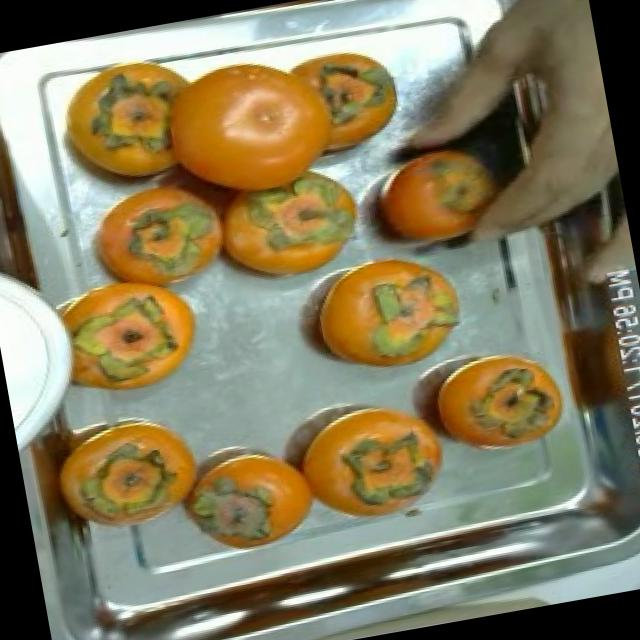Fruit: (125, 37, 364, 230), (28, 248, 224, 418), (274, 245, 486, 396), (273, 382, 465, 528), (412, 330, 582, 471)
